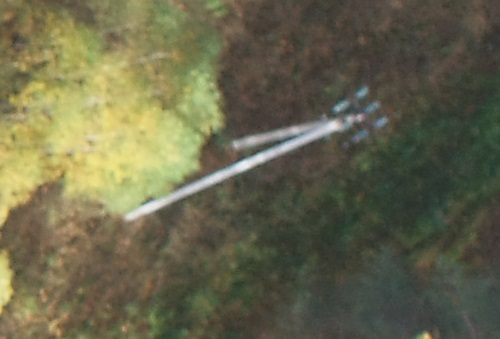opora: (121, 85, 392, 222)
